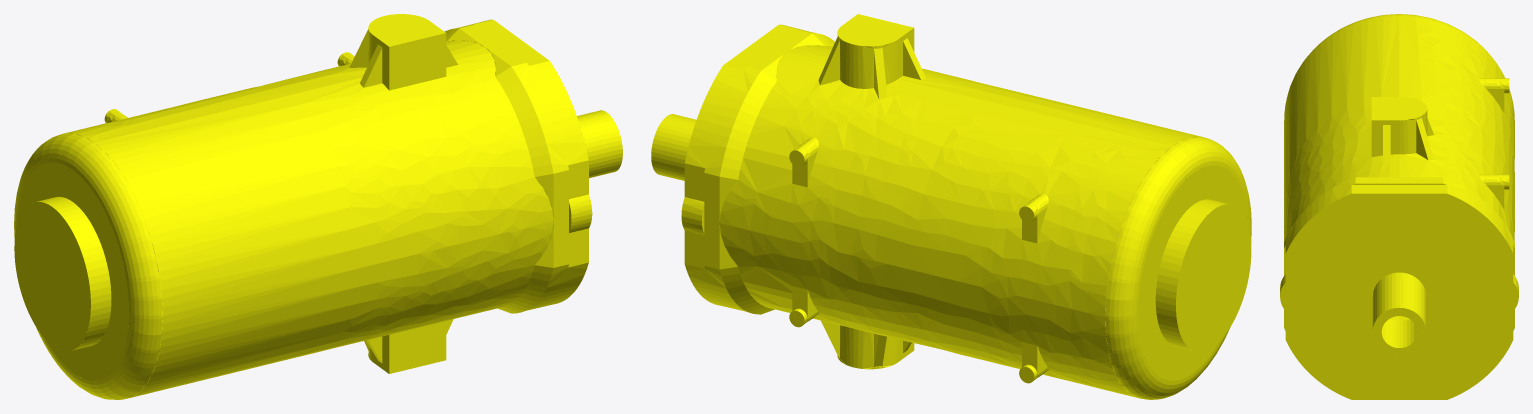
3 renders of one model, left to right at view 1: azimuth 30°, elevation 25°; view 2: azimuth 150°, elevation 25°; view 3: azimuth 270°, elevation 25°, orthographic. The views are drawn at different scales.
Parts seen in each view (by area): view 1: node; view 2: node; view 3: node.
Part boxes in pixels (x1,y1,x2,y2): node: (14, 14, 622, 399); node: (651, 14, 1251, 399); node: (1280, 14, 1518, 399).
Size of the model in its own units: 1071 by 604 by 472.
